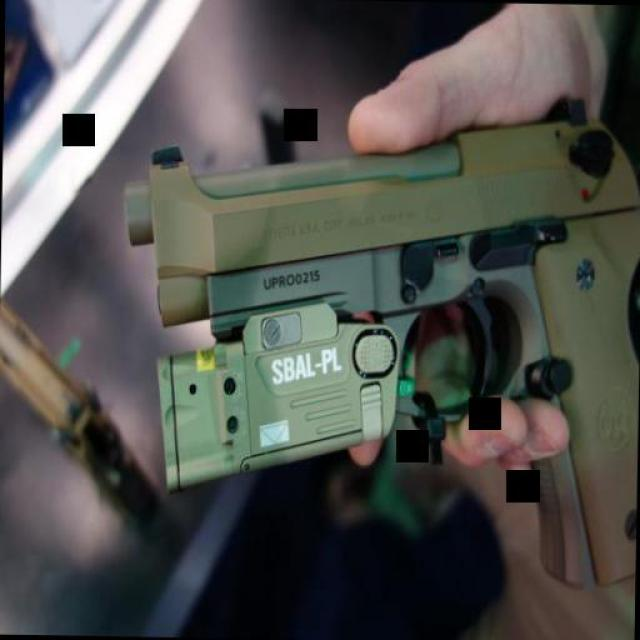gun: (114, 85, 640, 585)
